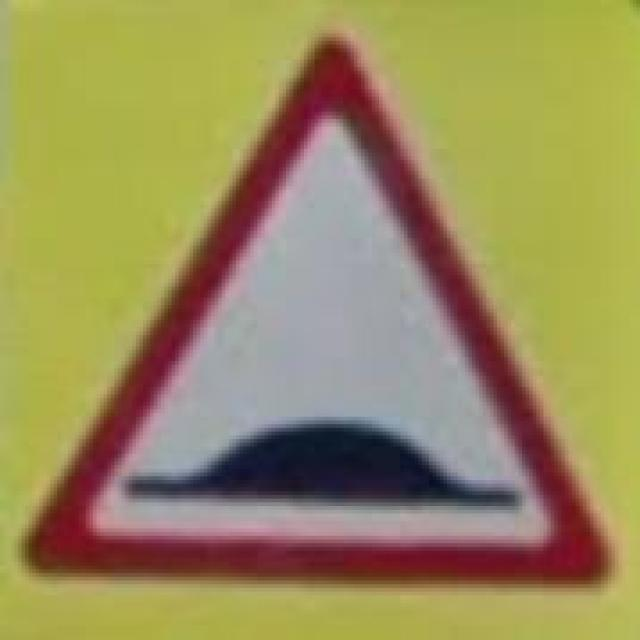traffic_sign: (18, 22, 626, 599)
